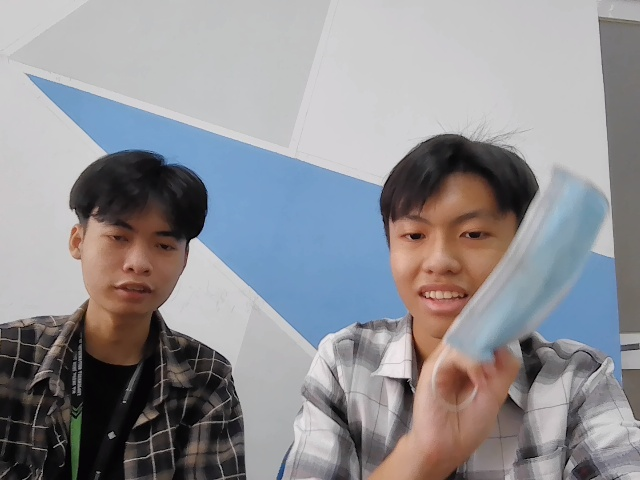human: (381, 137, 545, 334), (65, 142, 210, 317)
mask: (437, 156, 630, 382)
